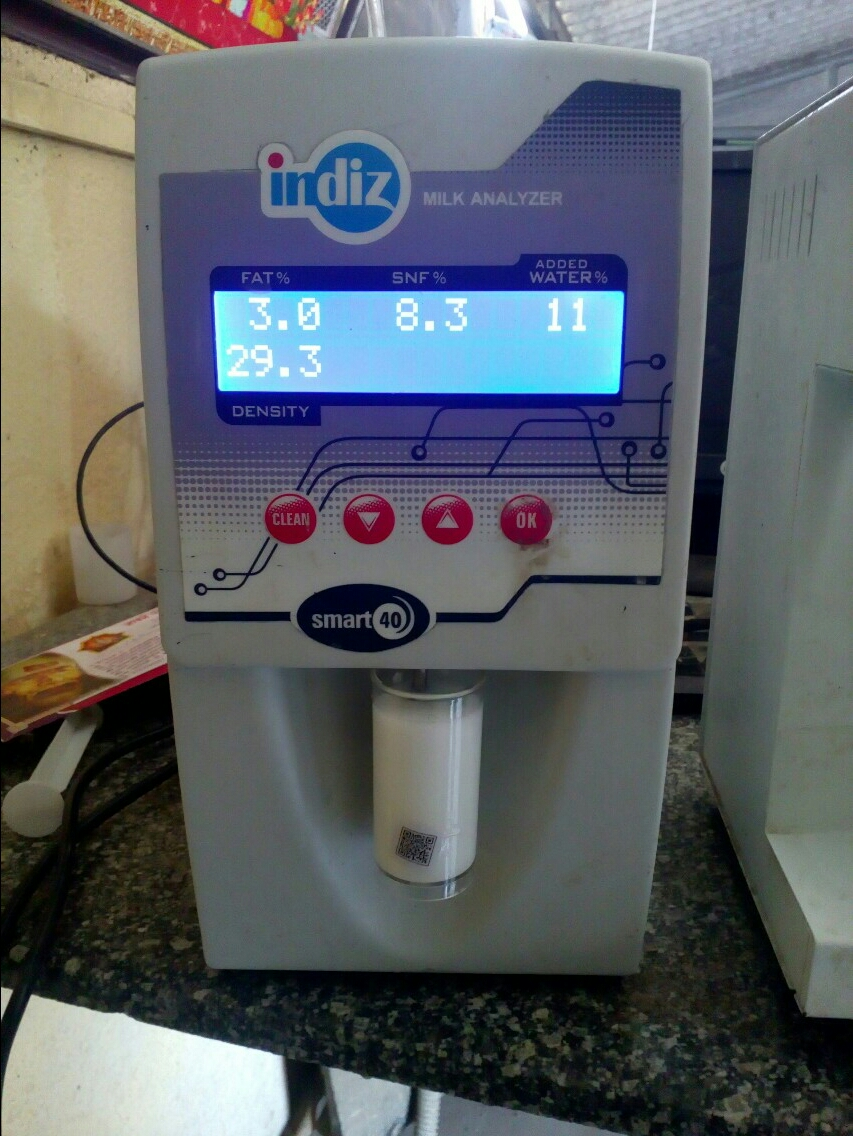lcd: (199, 287, 634, 411)
qr: (391, 819, 458, 887)
